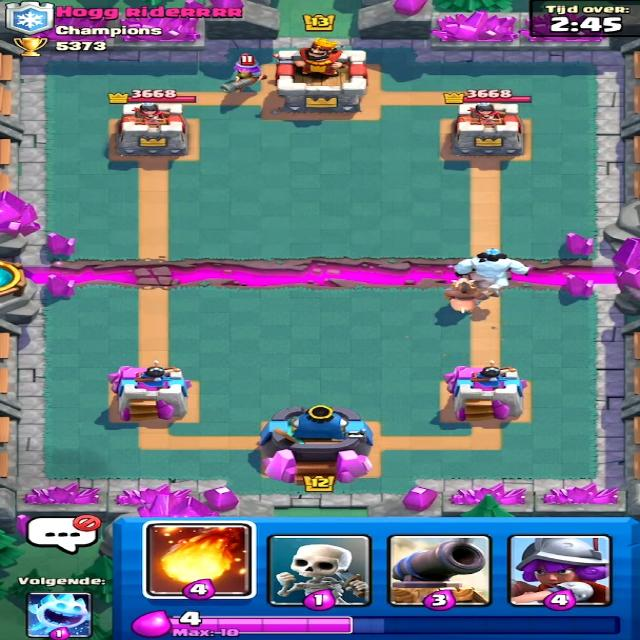Cannon_Card: (382, 537, 489, 604)
Enemy_Musketeer_Troop: (217, 48, 273, 92)
Fireball_Card: (151, 520, 259, 598)
Hog_Rider_Troop: (441, 277, 500, 312)
Ice_Golem_Troop: (453, 246, 537, 284)
Musketeer_Card: (512, 535, 609, 605)
Skeleton_Card: (268, 537, 375, 608)
